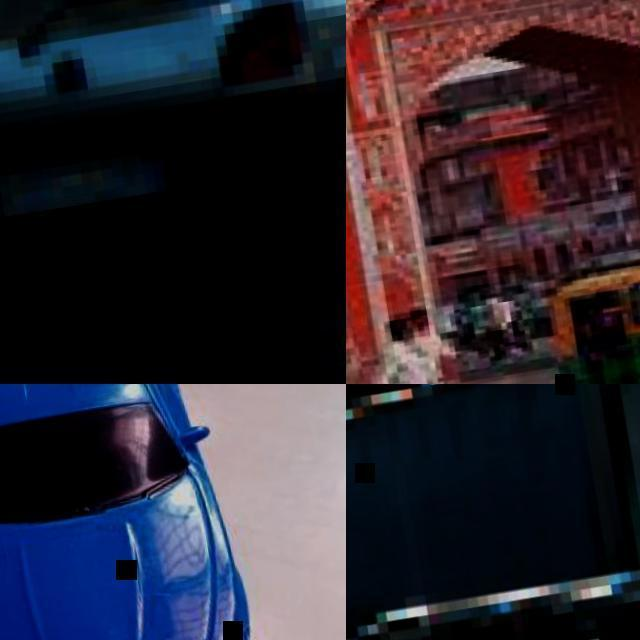car: (399, 4, 637, 386)
